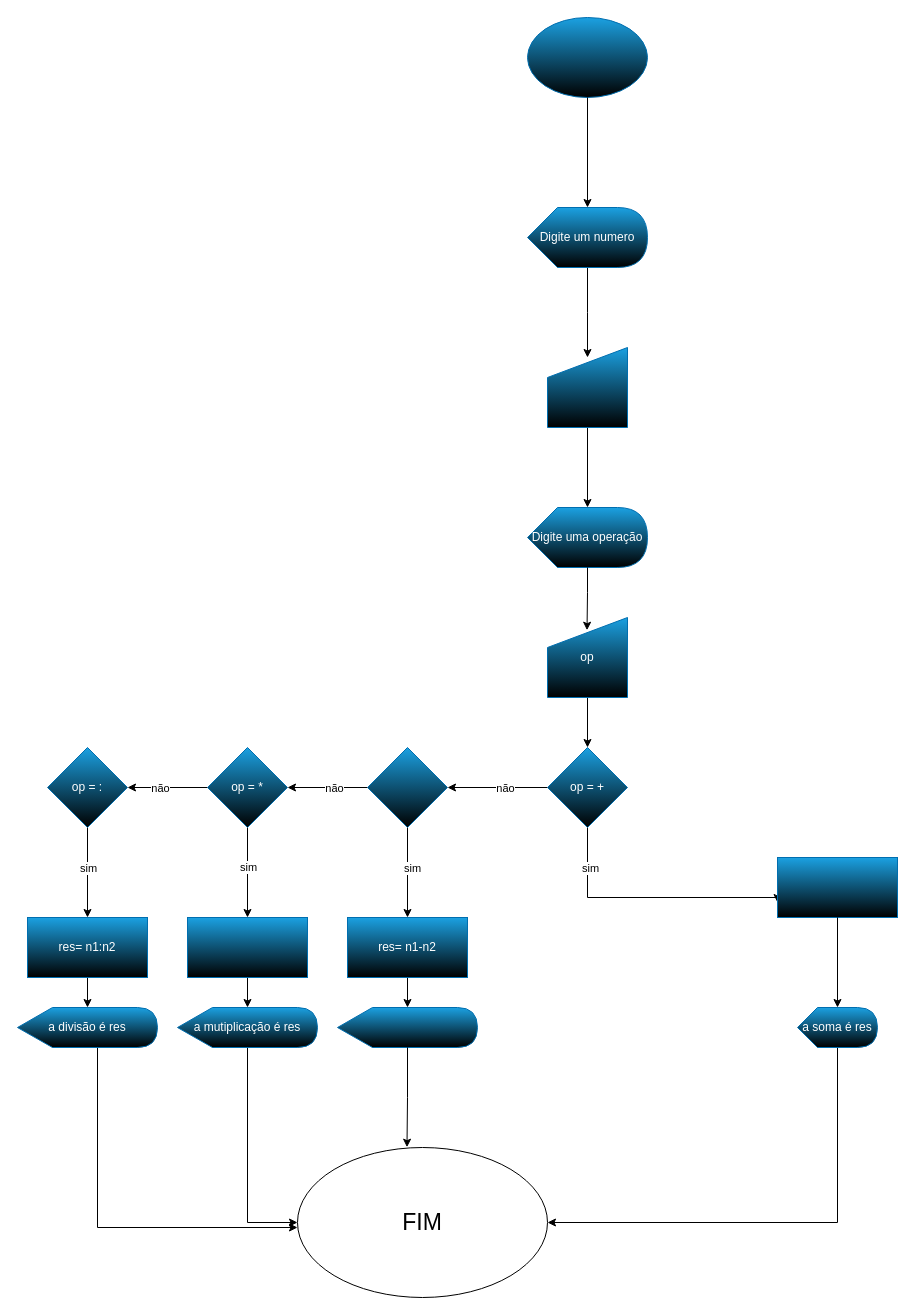
This 915x1315 diagram has some shape labels left out. The shapes that lost their labels are listed below. From the top down, each one's centre as x and y in pixels, then its label:
the point at 587,57: INICIO
the point at 587,387: n1
the point at 407,787: op = -
the point at 837,887: res= n1 + n2
the point at 247,947: res= n1*n2
the point at 407,1027: a subtração é res
